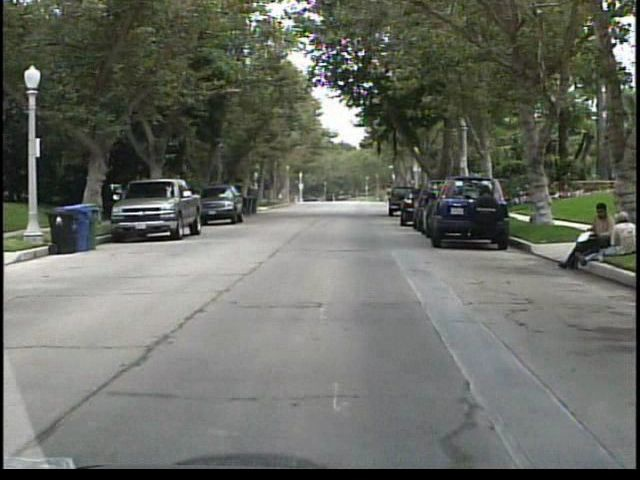person: (556, 201, 611, 273), (603, 213, 633, 257)
